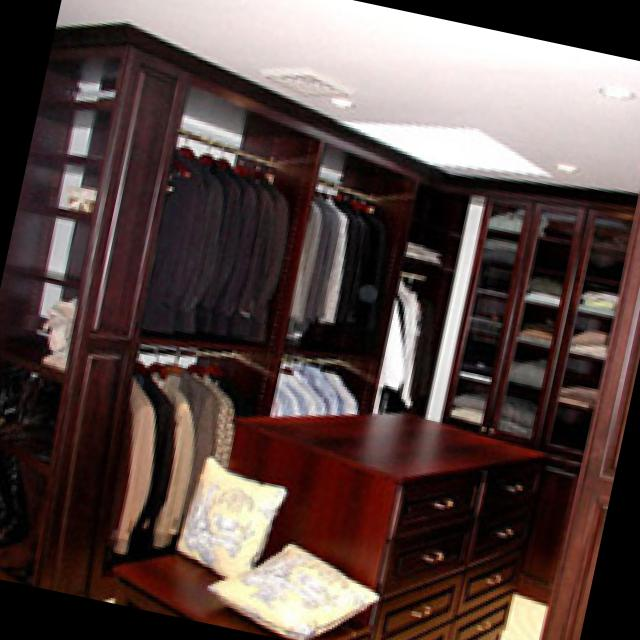boots: (0, 450, 36, 548)
ceiling beam: (58, 0, 640, 191)
closet crop: (0, 19, 640, 602)
cushion occluded: (210, 540, 384, 639), (178, 453, 290, 575)
door bars: (541, 193, 640, 640)
drawers crop: (115, 408, 550, 640)
floor -X: (502, 587, 549, 640)
jackets: (108, 372, 251, 559)
jackets occluded: (142, 149, 290, 341), (289, 191, 391, 334)
lamp crop: (352, 120, 553, 175), (600, 81, 637, 99), (334, 88, 361, 109), (562, 157, 581, 172)
